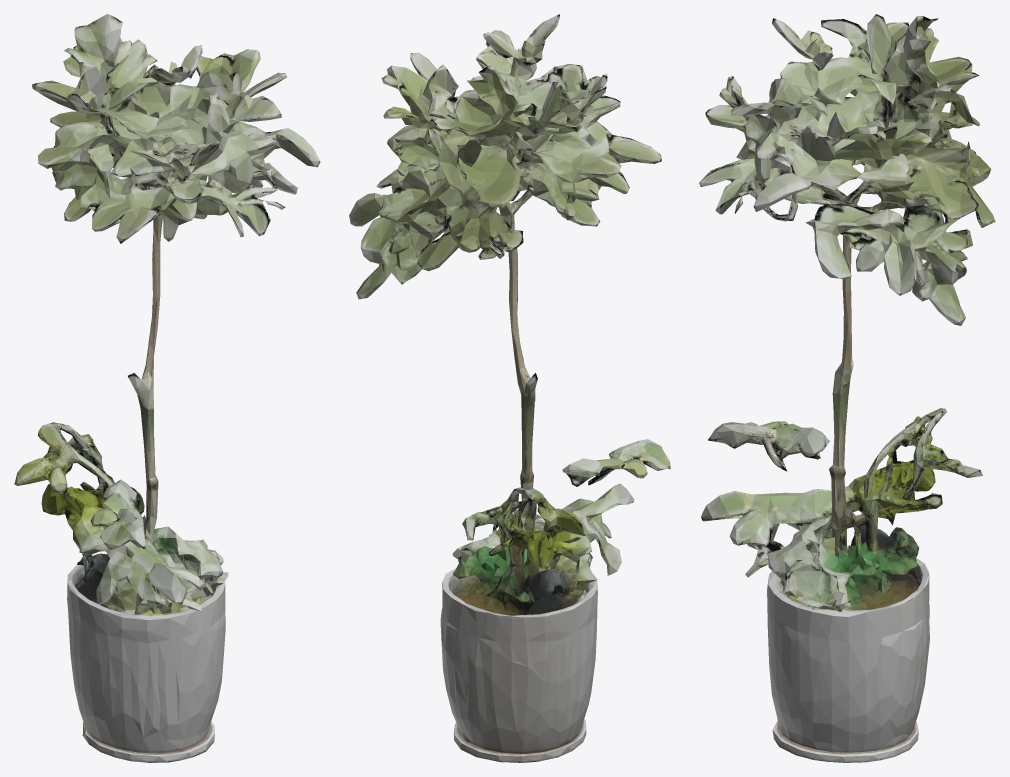
The model's file is ast_42a4923c5286.glb.
3 views of the same model, side by side, from view 1: azimuth 30°, elevation 25°; view 2: azimuth 150°, elevation 25°; view 3: azimuth 270°, elevation 25° (orthographic). The views are drawn at different scales.
Parts seen in each view (by area): view 1: geometry_0; view 2: geometry_0; view 3: geometry_0.
Boxes of the visible parts, x1,y1,x2,y2 form: geometry_0: (14,14,320,762); geometry_0: (349,14,670,762); geometry_0: (699,14,995,762).
Bounding box in the file's own units: 0.3752 × 1 × 0.3757.
Materials: 1 (1 with a texture image).
